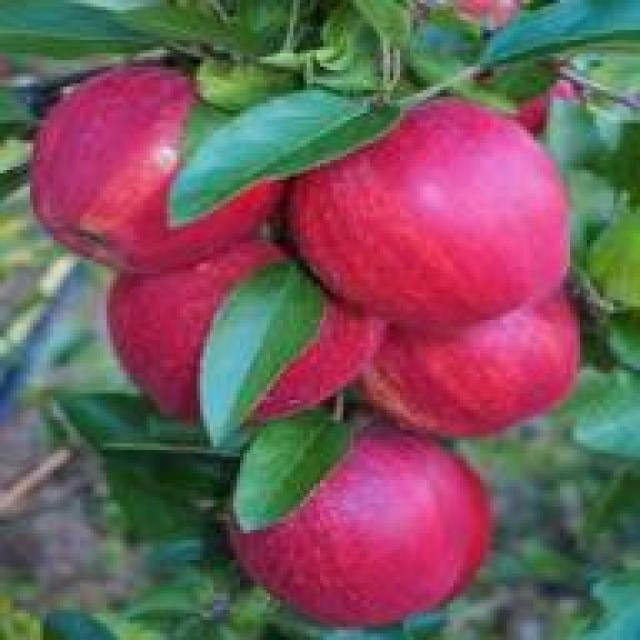apple: (283, 97, 577, 313), (233, 403, 510, 620), (93, 240, 380, 427), (43, 63, 307, 260), (353, 276, 587, 436)
